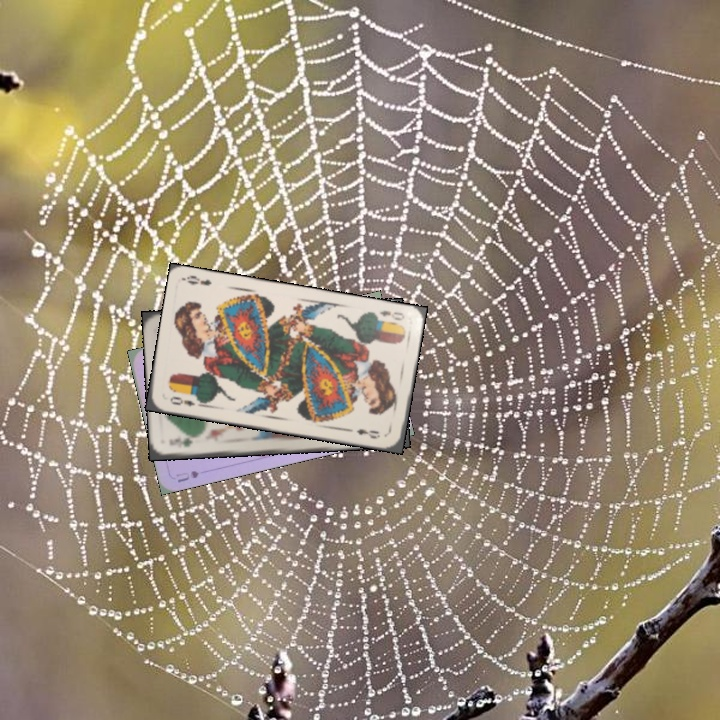EO: (166, 392, 197, 409), (376, 306, 407, 323)
GK: (169, 434, 195, 450)
SU: (172, 466, 201, 485)
